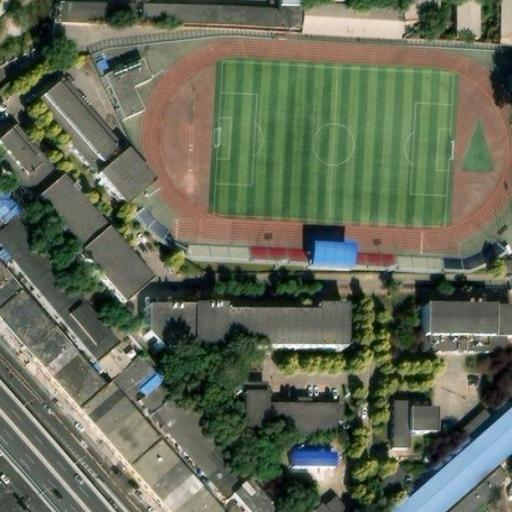building: (391, 404, 512, 512), (152, 390, 253, 496), (147, 301, 353, 347), (32, 76, 125, 173), (61, 0, 305, 32), (77, 382, 160, 467), (82, 220, 159, 299), (37, 170, 111, 246), (243, 385, 344, 436), (185, 221, 307, 259), (43, 343, 108, 410), (64, 298, 122, 359), (304, 5, 404, 39), (94, 147, 152, 204), (427, 300, 512, 336), (107, 59, 155, 120), (388, 404, 440, 454), (128, 440, 178, 490), (112, 349, 161, 397), (130, 200, 175, 246), (231, 474, 282, 512), (148, 460, 190, 503), (137, 378, 181, 419), (128, 367, 170, 407), (311, 237, 361, 270), (160, 474, 201, 512), (426, 335, 512, 351), (172, 486, 224, 512), (454, 401, 492, 436), (439, 250, 487, 273), (392, 250, 444, 271), (455, 0, 481, 39), (291, 454, 337, 473), (312, 493, 355, 512), (403, 0, 436, 20), (500, 0, 512, 42)
